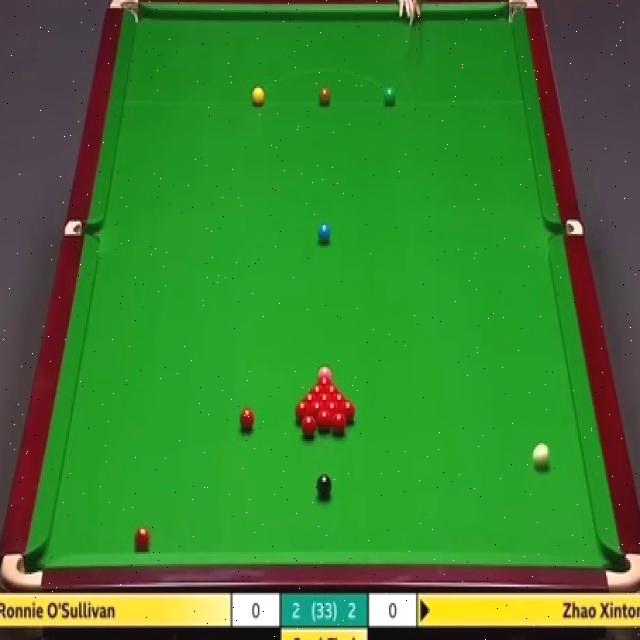black-ball: (316, 471, 332, 500)
blue-ball: (319, 224, 332, 246)
brown-ball: (320, 87, 332, 105)
green-ball: (384, 87, 396, 106)
pink-ball: (317, 362, 333, 380)
red-ball: (238, 409, 257, 434), (133, 526, 150, 553), (300, 416, 317, 441), (317, 409, 332, 434), (339, 401, 356, 422), (332, 414, 348, 436), (295, 401, 310, 423), (309, 401, 325, 416), (326, 403, 339, 420), (323, 385, 341, 396), (332, 393, 348, 404), (302, 394, 316, 405), (316, 376, 333, 385), (317, 394, 332, 404), (308, 386, 324, 394)
white-ball: (532, 441, 550, 468)
yellow-ball: (251, 85, 266, 107)
